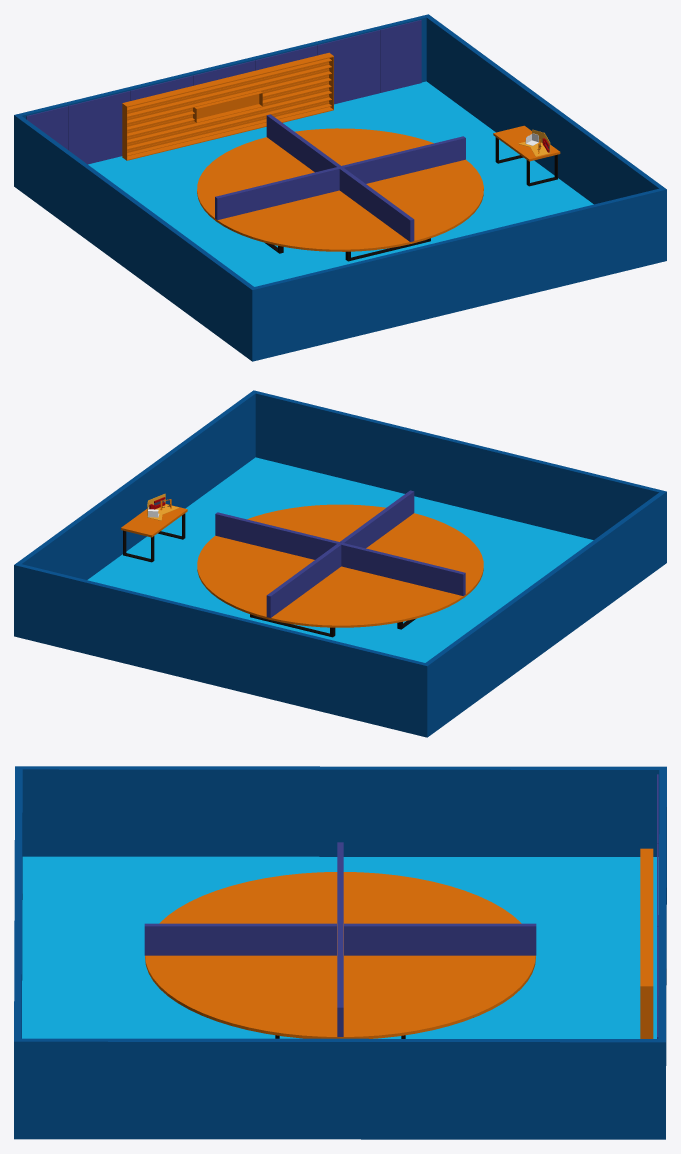
The model's file is escenario.fbx.
3 renders of one model, top to bottom at view 1: azimuth 30°, elevation 25°; view 2: azimuth 150°, elevation 25°; view 3: azimuth 270°, elevation 25°, orthographic. The views are drawn at different scales.
Parts seen in each view (by area): view 1: Estructura, PISO, mesa, Borde, Panel4, Panel2, Div2, Div, Panel5, Div.001, Div2.001, RepisaSuperior (+11 smaller); view 2: Estructura, PISO, mesa, Div2, Div, Div2.001, Div.001, Superior; view 3: Estructura, PISO, mesa, Div.001, Div2.001, Borde, Div, Div2.
Part boxes in pixels (x1=…): Estructura: x1=14, y1=14, x2=666, y2=361; PISO: x1=88, y1=81, x2=593, y2=286; mesa: x1=197, y1=128, x2=483, y2=251; Borde: x1=122, y1=52, x2=333, y2=160; Panel4: x1=68, y1=91, x2=130, y2=164; Panel2: x1=317, y1=30, x2=379, y2=104; Div2: x1=215, y1=166, x2=341, y2=219; Div: x1=339, y1=136, x2=465, y2=183; Panel5: x1=380, y1=20, x2=421, y2=92; Div.001: x1=339, y1=168, x2=414, y2=241; Div2.001: x1=266, y1=114, x2=340, y2=172; RepisaSuperior: x1=127, y1=69, x2=331, y2=123; Estructura: x1=14, y1=390, x2=666, y2=737; PISO: x1=87, y1=457, x2=593, y2=662; mesa: x1=197, y1=504, x2=483, y2=627; Div2: x1=339, y1=542, x2=465, y2=595; Div: x1=215, y1=512, x2=341, y2=559; Div2.001: x1=266, y1=544, x2=341, y2=617; Div.001: x1=340, y1=490, x2=414, y2=548; Superior: x1=121, y1=504, x2=187, y2=537; Estructura: x1=14, y1=766, x2=666, y2=1139; PISO: x1=22, y1=856, x2=658, y2=1038; mesa: x1=145, y1=872, x2=535, y2=1038; Div.001: x1=144, y1=923, x2=336, y2=955; Div2.001: x1=344, y1=923, x2=536, y2=955; Borde: x1=640, y1=848, x2=653, y2=1038; Div: x1=337, y1=925, x2=343, y2=1036; Div2: x1=337, y1=842, x2=343, y2=924.
Bounding box in the file's own units: 2003 × 330 × 2003.
